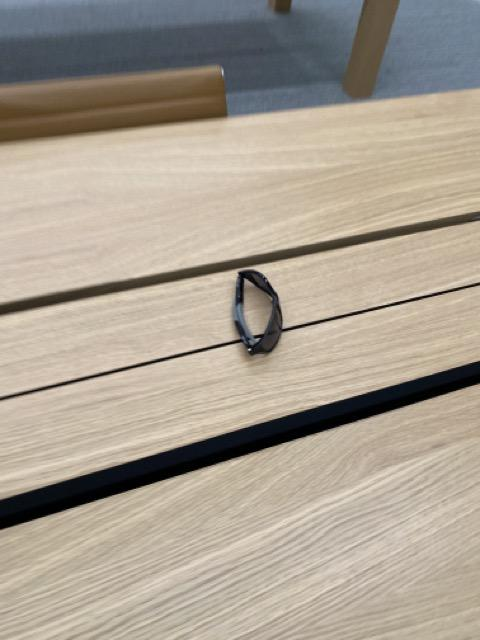Sunglasses: (233, 267, 285, 356)
